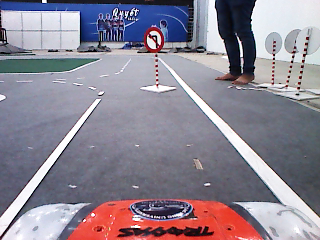ban: (143, 27, 164, 53)
